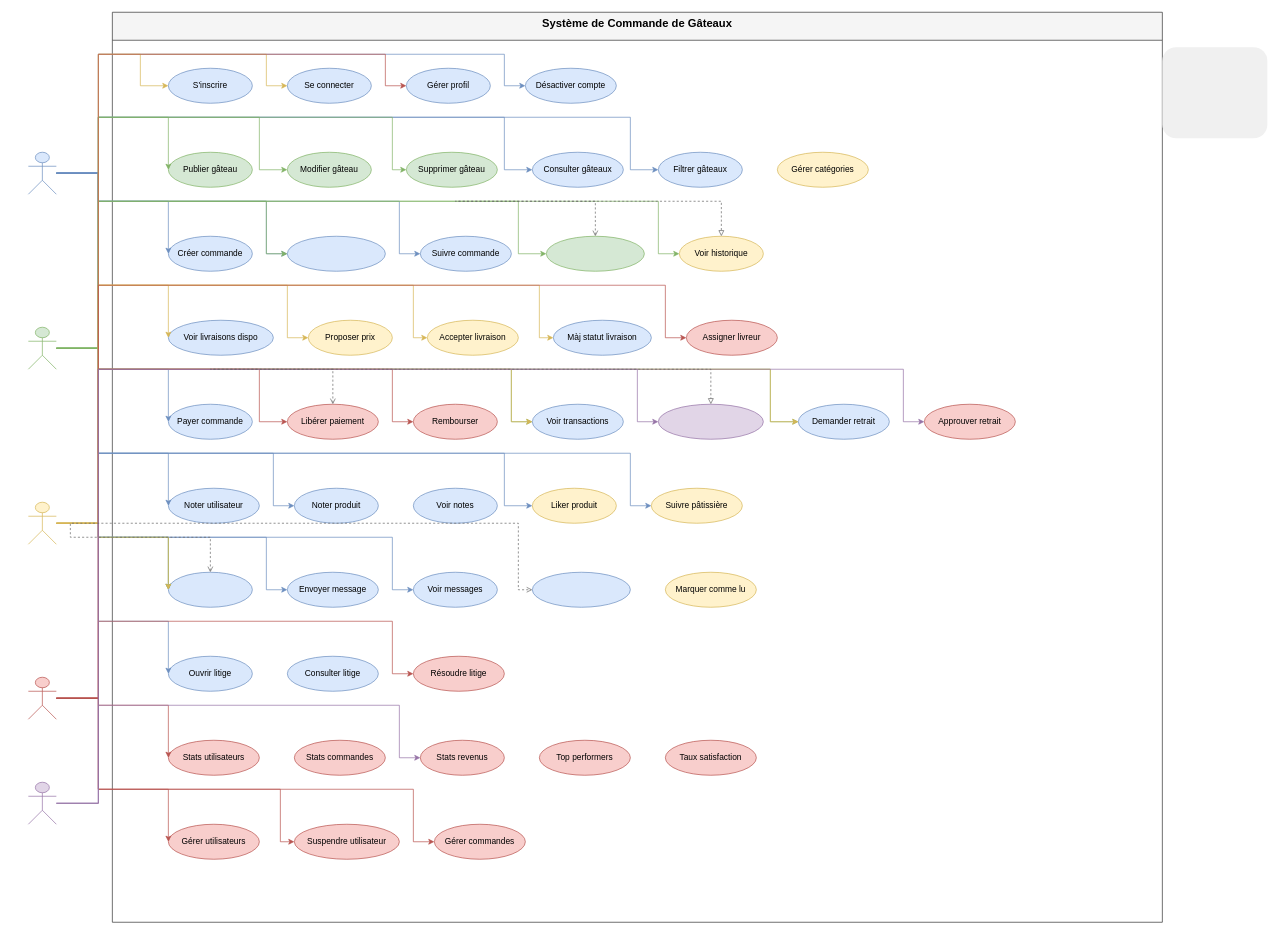
Some shapes in this 1280 by 935 pixel diagram are drawn without their labels. Here are the shapes that lost their labels. From the top down, the box of each, then its label:
(1162, 47, 1267, 138): Légende : 🔹 Client 🟢 Pâtissière 🟡 Livreur 🔴 Admin 🟣 SuperAdmin
(28, 152, 56, 194): Client
(287, 236, 385, 271): Consulter commande
(546, 236, 644, 271): Mettre à jour statut
(28, 327, 56, 369): Pâtissière
(658, 404, 763, 439): Configurer commission
(28, 502, 56, 544): Livreur
(168, 572, 252, 607): Chatter
(532, 572, 630, 607): Recevoir notification
(28, 677, 56, 719): Admin
(28, 782, 56, 824): SuperAdmin
